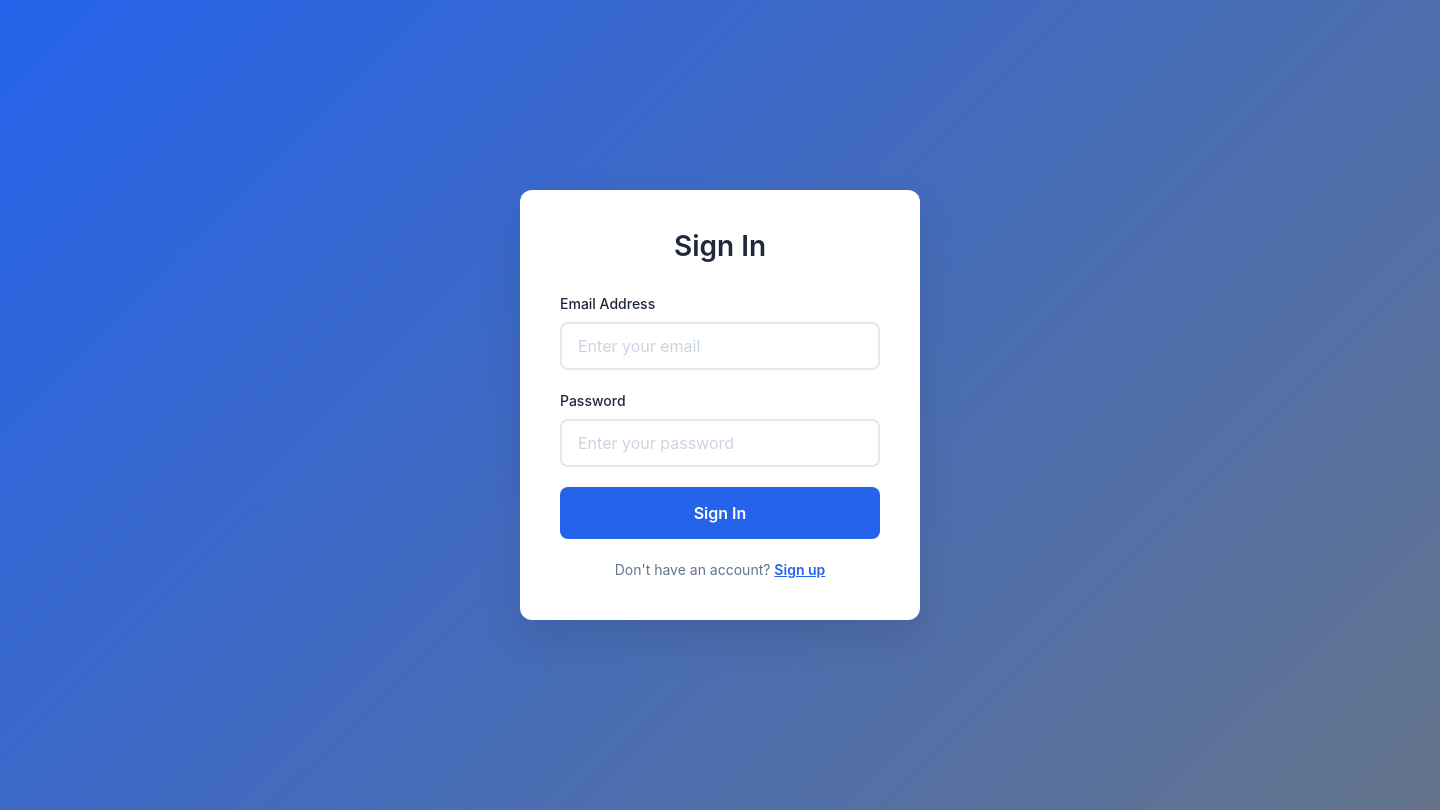
it: LoginPage › switches to register form when toggle is clicked
The image size is (1440, 810).
Click the button "Sign up".
click(800, 570)  # box [774,561,825,578]
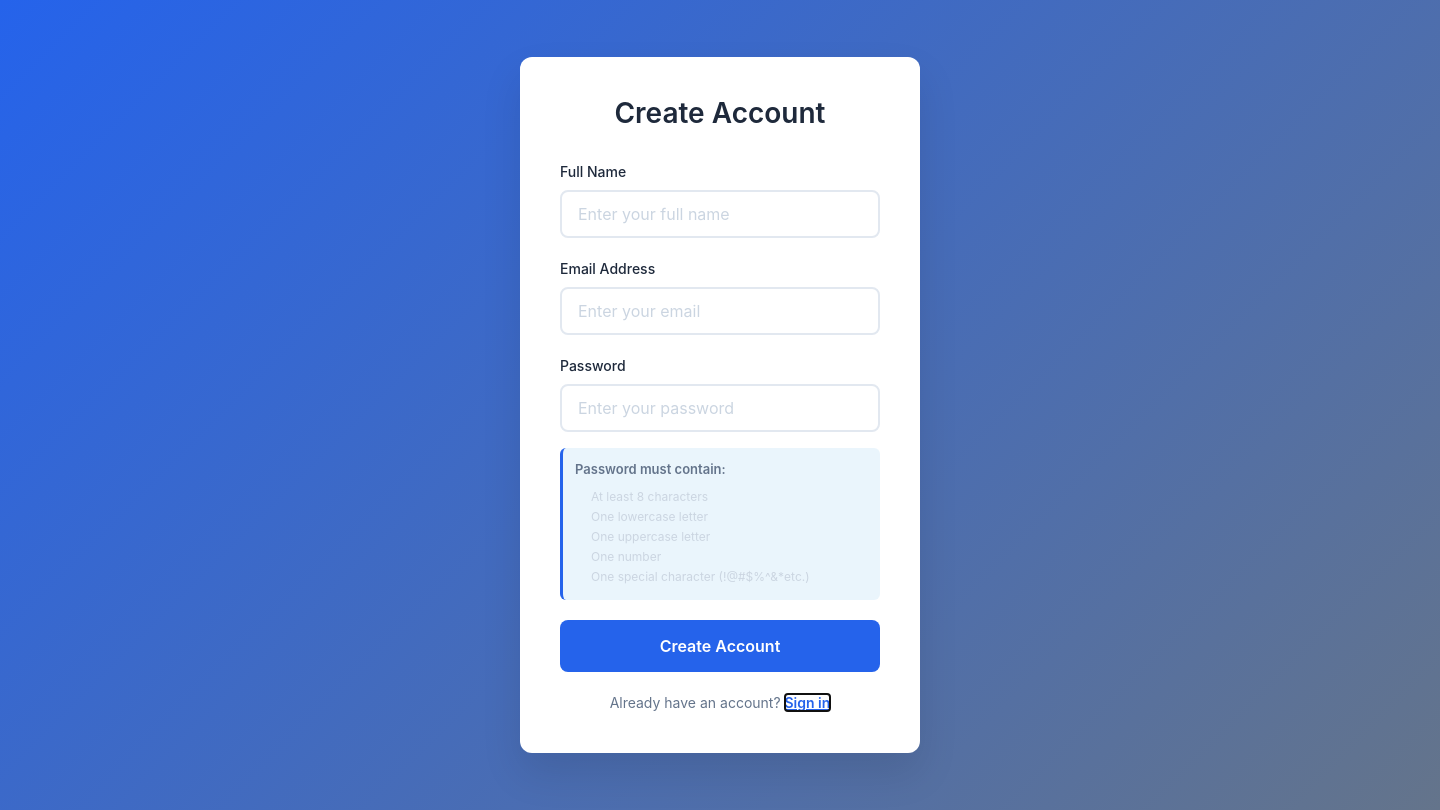
Expected: the number of headings "Create Account" is 2, [614,96,826,130]; [560,620,880,672]
Now the field labelled "Full Name" is shown, box [560,190,880,238]
Now the button "Create Account" is shown, box [560,620,880,672]
